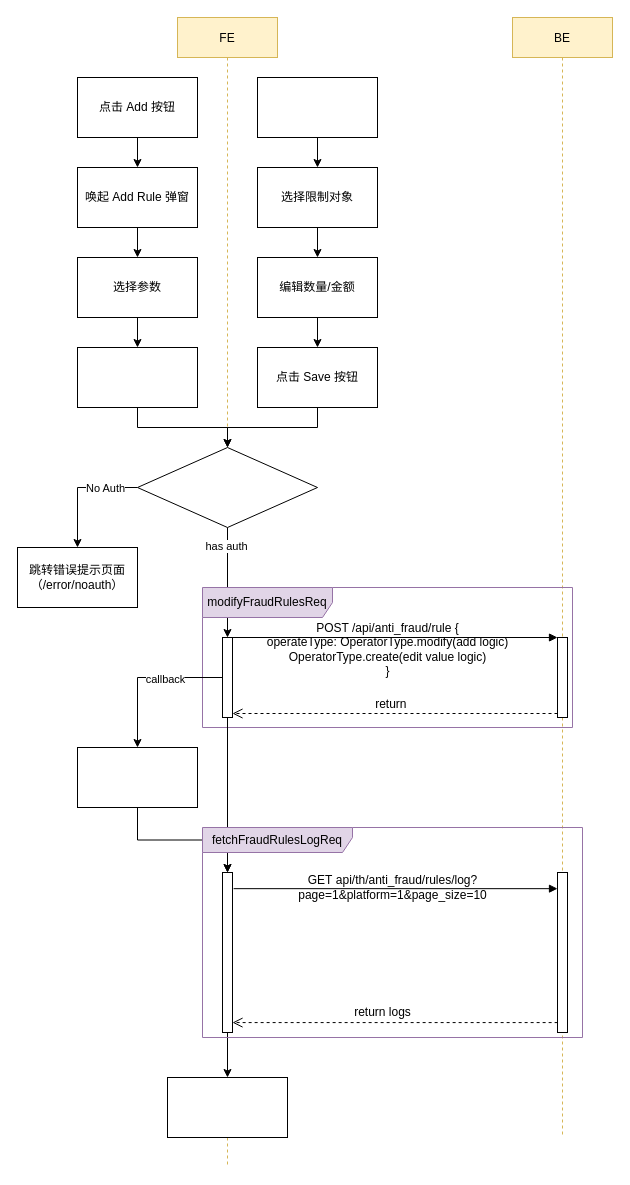
Image size: 630x1185. Some labels were removed from this diagram. The box of each missing label's shape, as (x1, y1, x2, y2) in pixels:
Log 表单重新渲染: (166, 1076, 288, 1138)
platform.fraudNoauth ?: (136, 446, 318, 528)
收起弹窗: (76, 746, 198, 808)
点击 Submit 按钮: (76, 346, 198, 408)
选择编辑的品类: (256, 76, 378, 138)
